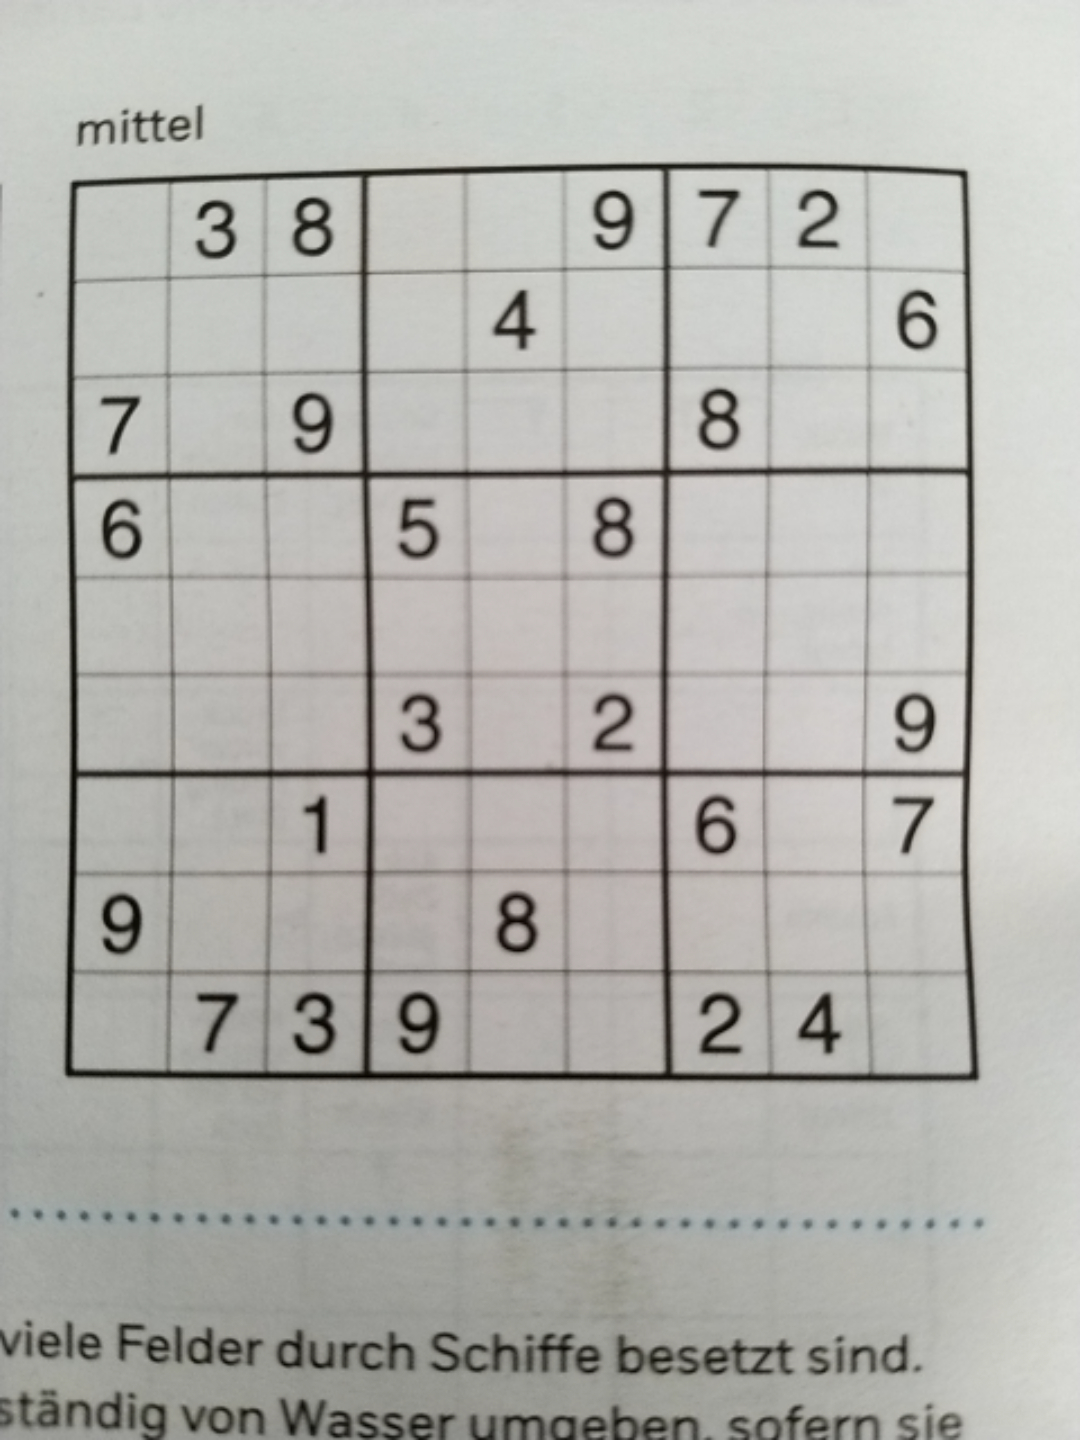sudoku: (66, 164, 983, 1081)
